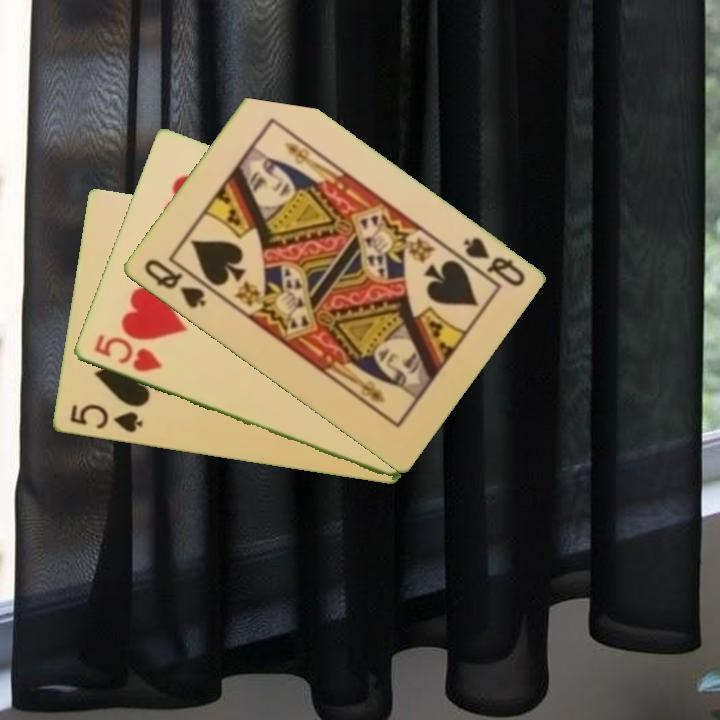5h: (90, 330, 165, 375)
5s: (66, 401, 146, 436)
Qs: (140, 255, 209, 312), (459, 234, 528, 290)
